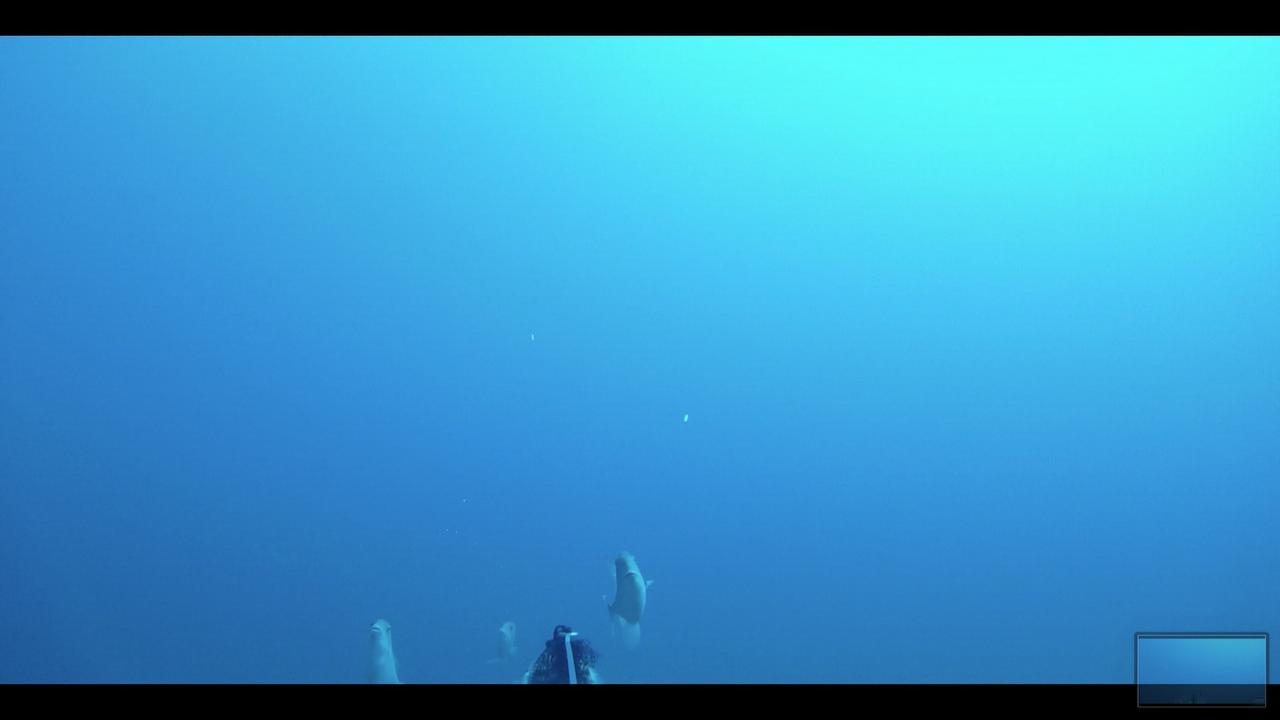balistes: (586, 547, 660, 641), (358, 613, 411, 685)
